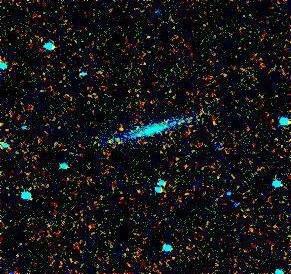star: (106, 113, 136, 143)
